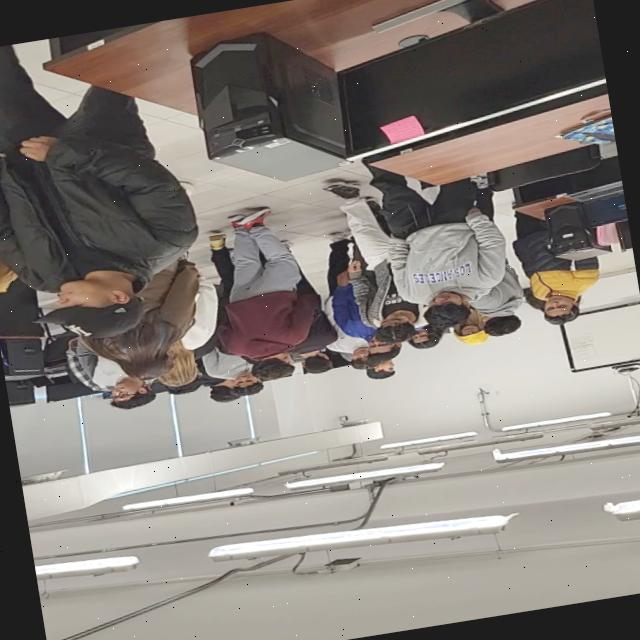Persona: (0, 101, 212, 352), (382, 177, 510, 331), (217, 216, 320, 378), (492, 214, 606, 338), (350, 253, 416, 354)
